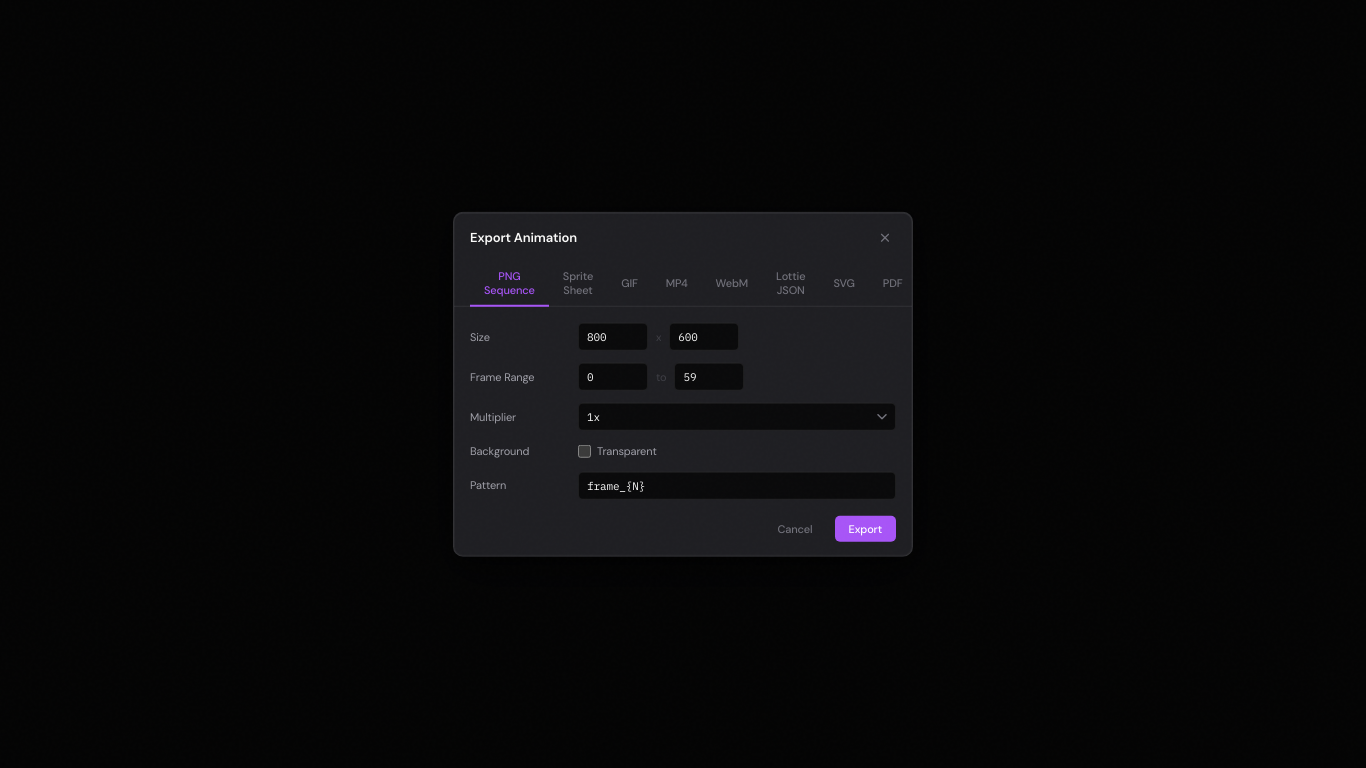
Test: ExportDialog › releases the frame renderer when its images fail to load
Click the button with test id "export-dialog-export".
click(865, 528)  # box top-left (834, 515), bottom-right (896, 541)
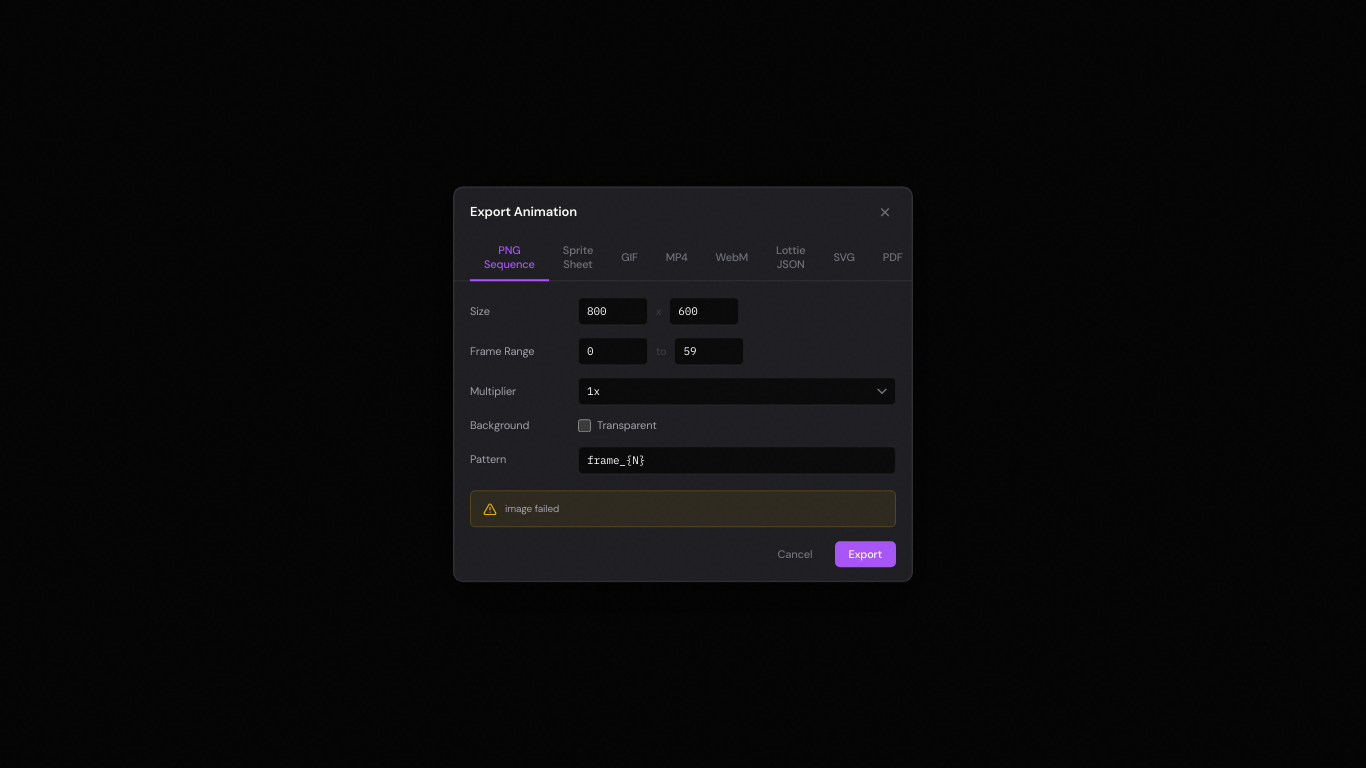
Expected: the message with test id "export-error" reads "image failed", top-left (505, 502), bottom-right (559, 515)
